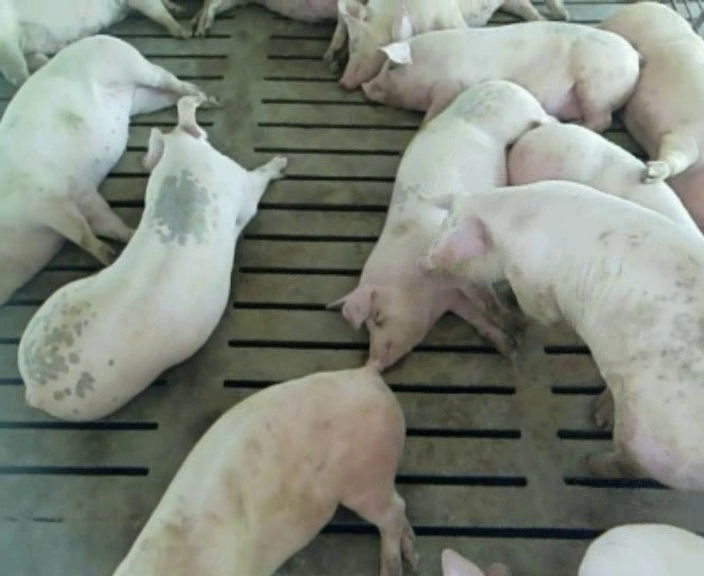pig: (417, 181, 703, 488), (18, 96, 285, 419), (115, 365, 417, 574), (338, 81, 553, 369), (0, 35, 205, 304), (362, 4, 638, 130), (600, 3, 703, 230), (578, 524, 703, 575)
